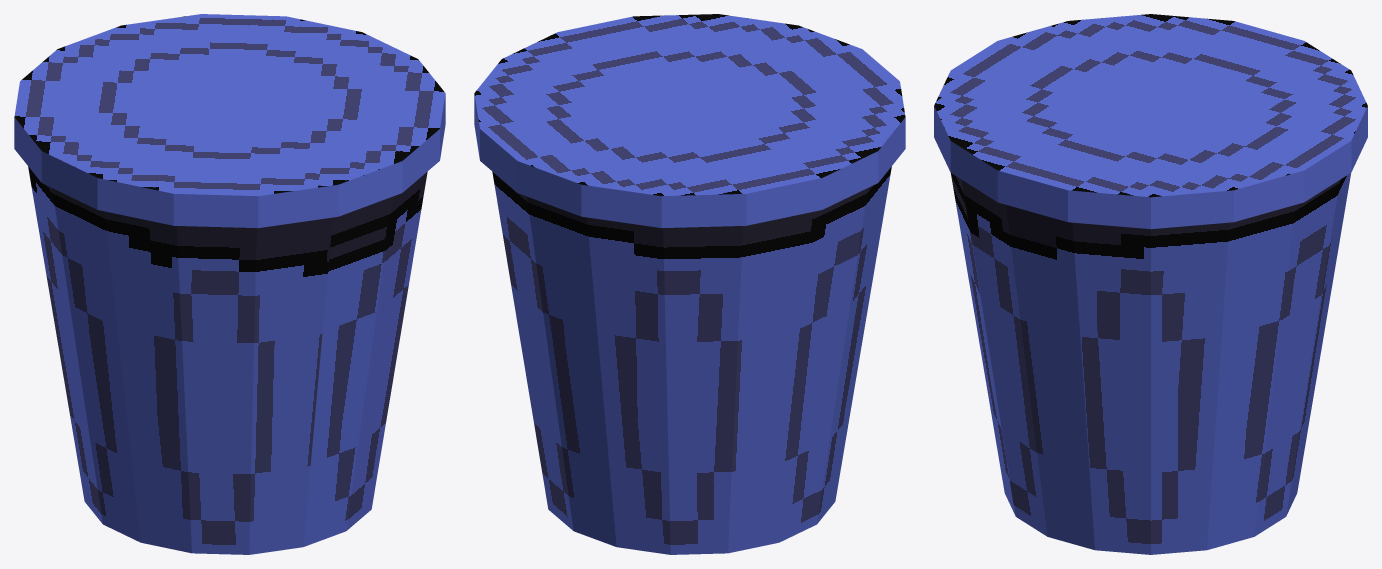
The model's file is trashcan.glb.
3 views of the same model, side by side, from view 1: azimuth 30°, elevation 25°; view 2: azimuth 150°, elevation 25°; view 3: azimuth 270°, elevation 25° (orthographic).
Parts seen in each view (by area): view 1: Cylinder; view 2: Cylinder; view 3: Cylinder.
Boxes of the visible parts, bbox=[...] form: Cylinder: bbox=[14, 14, 445, 554]; Cylinder: bbox=[474, 14, 905, 554]; Cylinder: bbox=[934, 14, 1367, 554].
Bounding box in the file's own units: 0.4978 × 0.4907 × 0.4978.
Materials: 1 (1 with a texture image).
